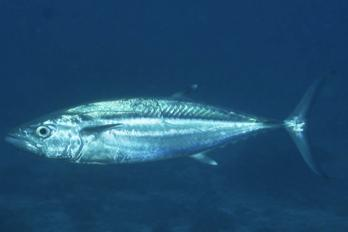Scombridae -Tunas-: (0, 68, 339, 183)
